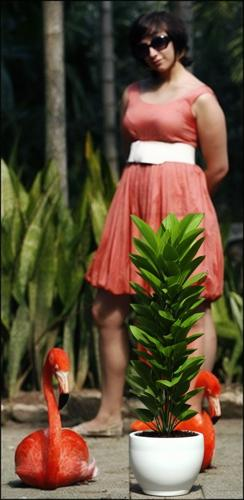bird: (10, 346, 98, 489), (135, 369, 224, 475)
person: (86, 8, 224, 439)
person/foot: (71, 415, 125, 440)
person/head: (132, 11, 184, 72)
pottedplant: (129, 213, 204, 500)
